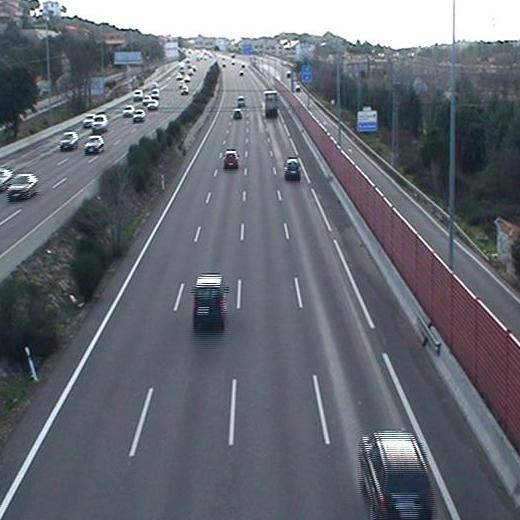car: (355, 424, 442, 520), (282, 156, 303, 180), (222, 147, 239, 170), (231, 108, 244, 121), (235, 95, 247, 108)
truck: (263, 90, 281, 119)
van: (192, 271, 229, 324)
